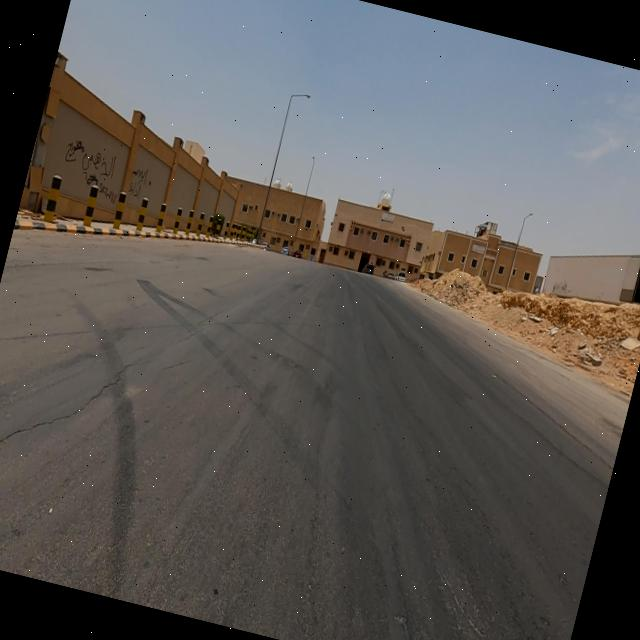Graffiti: (62, 136, 121, 189), (129, 167, 151, 201), (97, 182, 119, 206)
